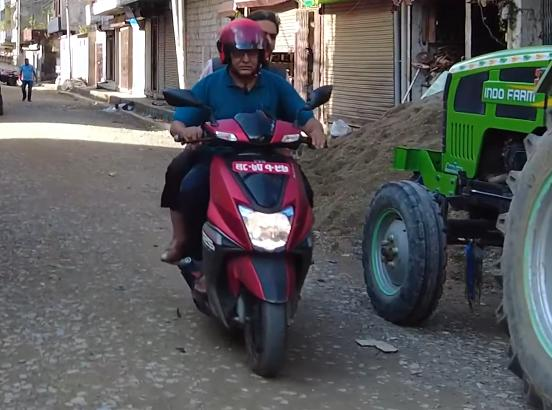scooter: (152, 79, 335, 378)
tractor: (349, 35, 552, 403)
